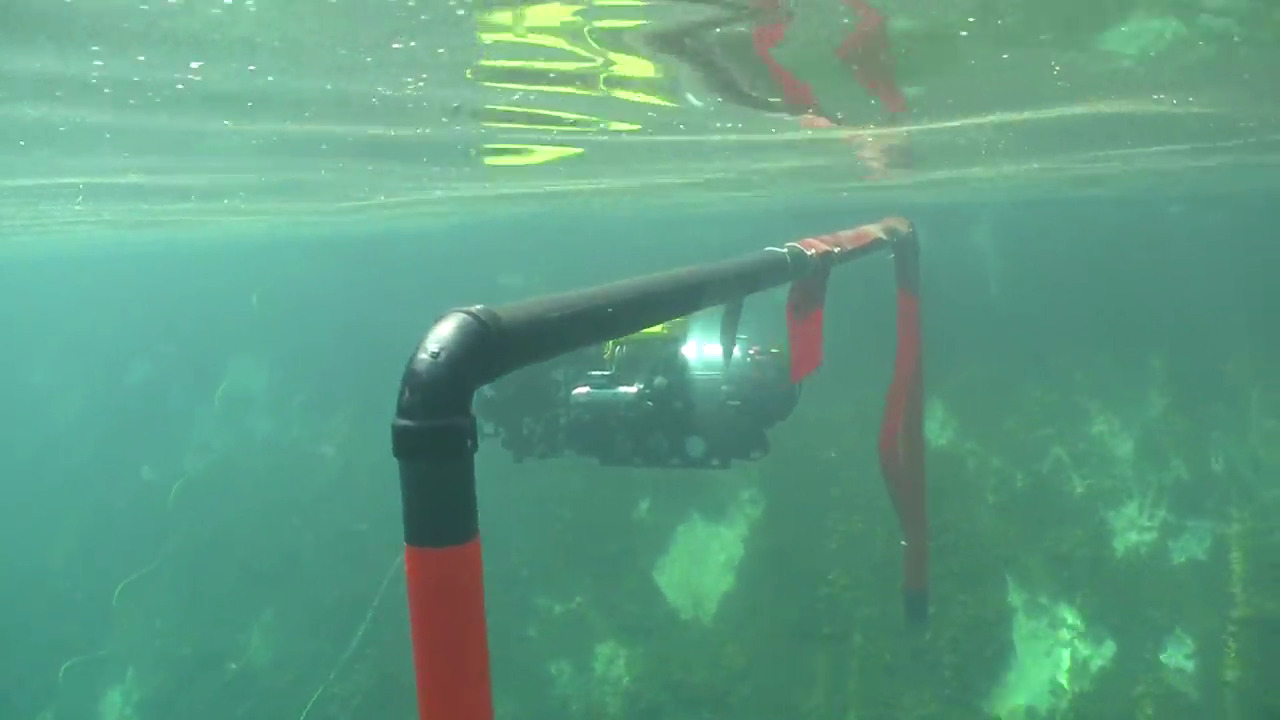gate: (388, 211, 936, 720)
